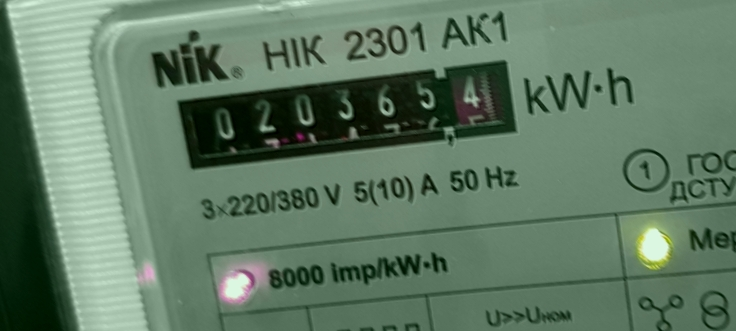0: (296, 90, 318, 127), (215, 104, 238, 139)
2: (254, 96, 278, 133)
3: (336, 84, 357, 120)
4: (462, 72, 483, 107)
5: (416, 75, 439, 109)
6: (376, 80, 398, 117)
screen: (162, 47, 538, 178)
